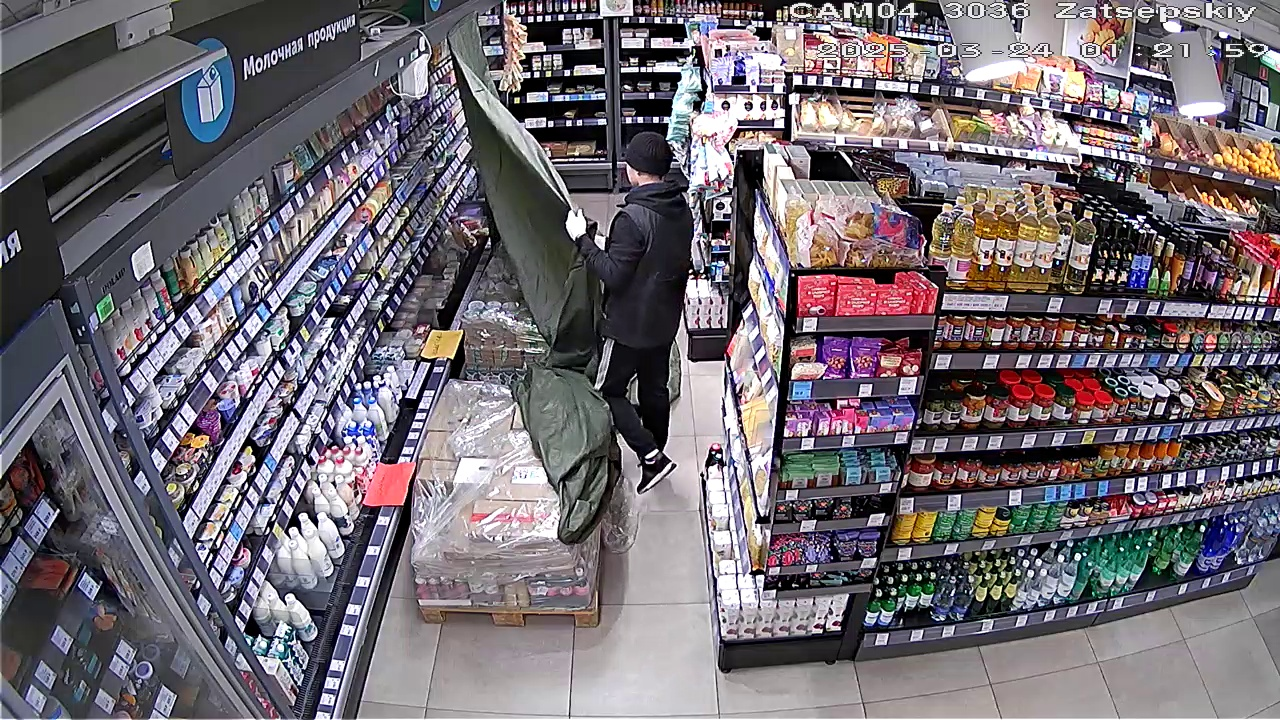Human: (559, 127, 695, 496)
pallet: (426, 376, 584, 618), (470, 266, 535, 366)
